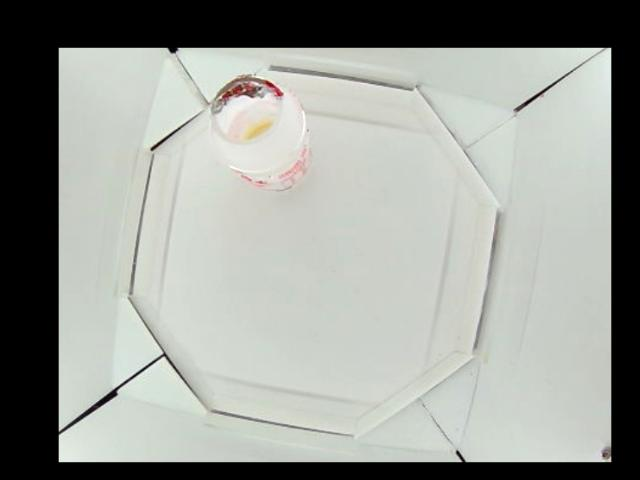Bottle: (207, 71, 311, 192)
